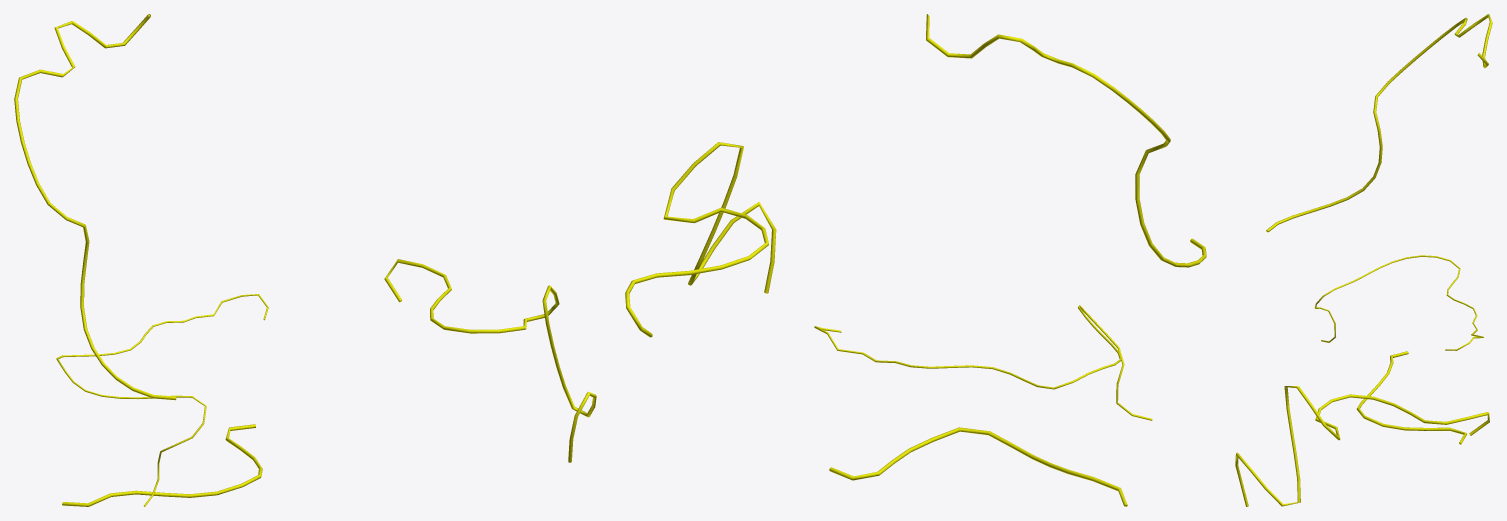
The model's file is eletric_wire_grp.fbx.
3 renders of one model, left to right at view 1: azimuth 30°, elevation 25°; view 2: azimuth 150°, elevation 25°; view 3: azimuth 270°, elevation 25°, orthographic. The views are drawn at different scales.
Visible parts, largest first — view 1: eletric_wire_3_msh, eletric_wire_4_msh, eletric_wire_2_msh, eletric_wire_1_msh; view 2: eletric_wire_4_msh, eletric_wire_3_msh, eletric_wire_2_msh, eletric_wire_1_msh; view 3: eletric_wire_4_msh, eletric_wire_3_msh, eletric_wire_1_msh, eletric_wire_2_msh.
Part boxes in pixels (x1,y1,x2,y2): eletric_wire_3_msh: (14, 14, 176, 400); eletric_wire_4_msh: (384, 259, 596, 462); eletric_wire_2_msh: (62, 424, 262, 506); eletric_wire_1_msh: (56, 294, 268, 506); eletric_wire_4_msh: (625, 142, 776, 337); eletric_wire_3_msh: (926, 14, 1206, 267); eletric_wire_2_msh: (829, 427, 1127, 506); eletric_wire_1_msh: (814, 305, 1152, 420); eletric_wire_4_msh: (1235, 386, 1489, 506); eletric_wire_3_msh: (1266, 14, 1492, 232); eletric_wire_1_msh: (1314, 255, 1483, 350); eletric_wire_2_msh: (1356, 351, 1466, 444).
Bounding box in the file's own units: 291 × 251 × 164.
